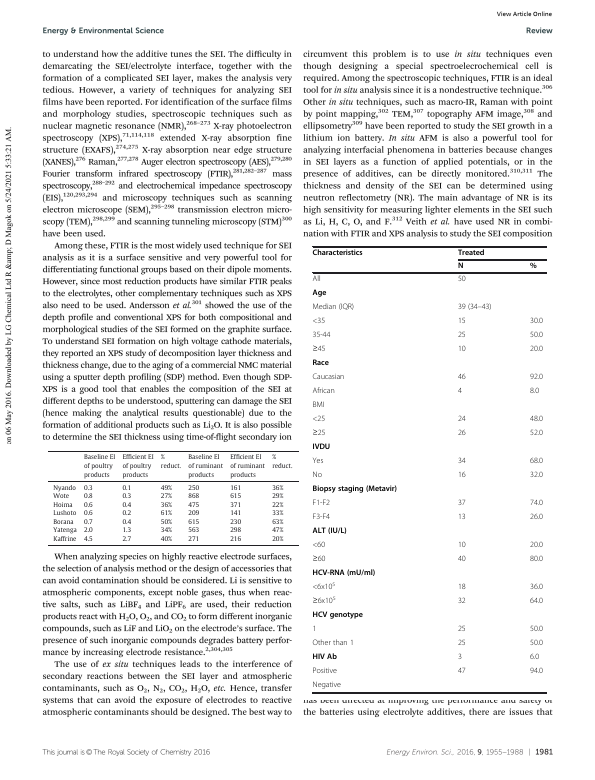borderless: (311, 245, 546, 692), (47, 449, 299, 545)
cell: (187, 454, 224, 479), (229, 454, 266, 479), (312, 485, 398, 495), (83, 454, 116, 479), (122, 454, 155, 479), (312, 569, 376, 579), (312, 611, 364, 621), (312, 249, 364, 258), (312, 303, 355, 313), (312, 639, 355, 649), (271, 454, 294, 470), (312, 527, 348, 537), (160, 454, 182, 470), (457, 303, 492, 313), (312, 373, 345, 383), (312, 681, 342, 691), (312, 596, 337, 607), (312, 582, 336, 593), (312, 653, 338, 663), (312, 667, 338, 677), (457, 249, 485, 258), (312, 387, 336, 397), (52, 535, 78, 544), (52, 509, 77, 518), (52, 527, 78, 535), (52, 484, 77, 492), (312, 331, 331, 341), (312, 443, 331, 453), (312, 499, 331, 509), (312, 513, 331, 523), (52, 518, 75, 526), (312, 359, 330, 369), (52, 501, 74, 509), (52, 492, 70, 501), (312, 289, 327, 299), (529, 317, 544, 327), (529, 331, 544, 341), (529, 345, 544, 355), (529, 373, 544, 383), (529, 415, 544, 425), (529, 429, 544, 439), (529, 457, 544, 467), (529, 471, 544, 481), (529, 499, 544, 509), (529, 513, 544, 523), (529, 541, 544, 551), (529, 555, 544, 565), (529, 583, 544, 593), (529, 597, 544, 607), (529, 625, 544, 635), (529, 639, 544, 649), (529, 667, 544, 677), (312, 317, 326, 327), (312, 345, 326, 355), (312, 415, 326, 425), (312, 429, 326, 439), (312, 541, 326, 551), (312, 555, 326, 565), (312, 401, 325, 411), (312, 457, 324, 467), (160, 492, 173, 501), (187, 492, 200, 501), (229, 492, 242, 501), (271, 492, 284, 501), (160, 509, 173, 518), (187, 509, 200, 518), (229, 509, 242, 518), (271, 509, 284, 518), (160, 535, 173, 544), (187, 535, 200, 544), (229, 535, 242, 544), (271, 535, 284, 544), (529, 387, 540, 397), (312, 471, 323, 481), (529, 653, 540, 663), (160, 484, 173, 492), (187, 484, 200, 492), (229, 484, 242, 492), (271, 484, 284, 492), (160, 501, 173, 509), (187, 501, 200, 509), (229, 501, 242, 509), (271, 501, 284, 509), (160, 518, 173, 526), (187, 518, 200, 526), (229, 518, 242, 526), (271, 518, 284, 526), (160, 527, 173, 535), (187, 527, 200, 535), (229, 527, 242, 535), (271, 527, 284, 535), (457, 275, 467, 285), (457, 317, 467, 327), (457, 331, 467, 341), (457, 345, 467, 355), (457, 373, 467, 383), (457, 415, 467, 425), (457, 429, 467, 439), (457, 457, 467, 467), (457, 471, 467, 481), (457, 499, 467, 509), (457, 513, 467, 523), (457, 541, 467, 551), (457, 555, 467, 565), (457, 583, 467, 593), (457, 597, 467, 607), (457, 625, 467, 635), (457, 639, 467, 649), (457, 667, 467, 677), (83, 492, 94, 501), (83, 509, 94, 518), (83, 535, 94, 544), (122, 492, 132, 501), (122, 509, 132, 518), (122, 535, 132, 544), (529, 262, 538, 272), (312, 275, 321, 285), (83, 484, 94, 492), (83, 501, 94, 509), (83, 518, 94, 526), (83, 527, 94, 535), (122, 484, 132, 492), (122, 501, 132, 509), (122, 518, 132, 526), (122, 527, 132, 535), (457, 262, 464, 272), (457, 387, 463, 397), (457, 653, 463, 663), (312, 625, 317, 635)
